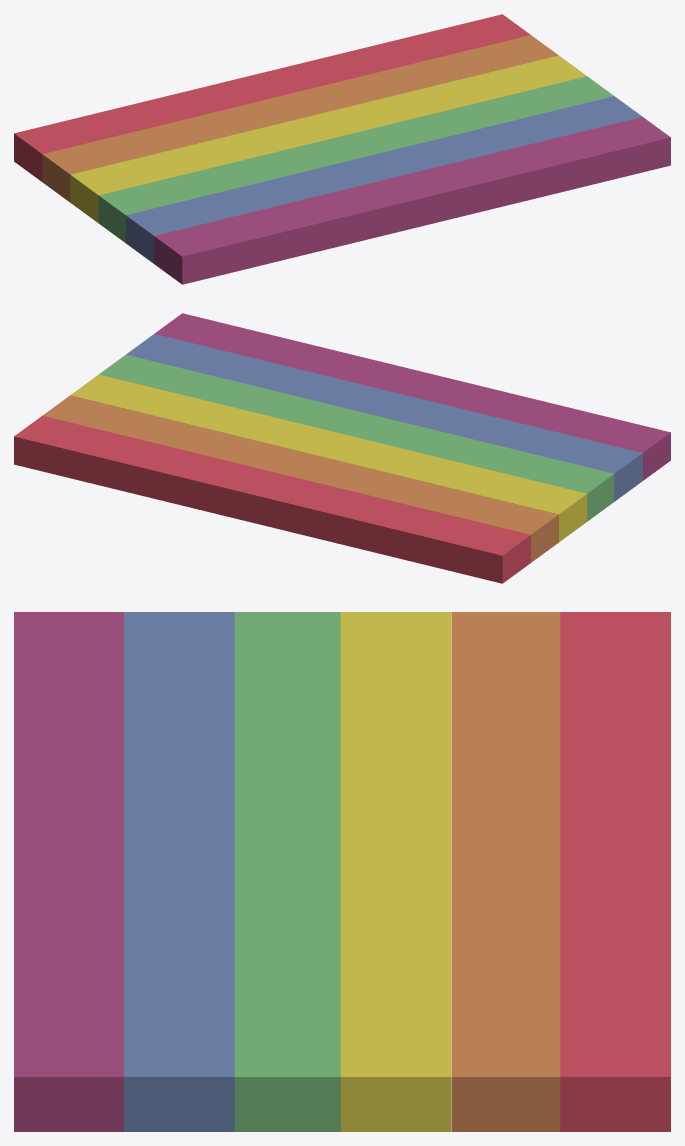
The model's file is lgbt1.gltf.
3 renders of one model, top to bottom at view 1: azimuth 30°, elevation 25°; view 2: azimuth 150°, elevation 25°; view 3: azimuth 270°, elevation 25°, orthographic. The views are drawn at different scales.
Visible parts, largest first — view 1: Mesh_Mesh_head_geo.001_lambert2SG.001; view 2: Mesh_Mesh_head_geo.001_lambert2SG.001; view 3: Mesh_Mesh_head_geo.001_lambert2SG.001.
Boxes of the visible parts, box(x1,y1,x2,y2) form: Mesh_Mesh_head_geo.001_lambert2SG.001: box(14, 14, 670, 284); Mesh_Mesh_head_geo.001_lambert2SG.001: box(14, 313, 670, 583); Mesh_Mesh_head_geo.001_lambert2SG.001: box(14, 612, 670, 1131).
Size of the model in its own units: 0.91 by 0.05 by 0.5433.
